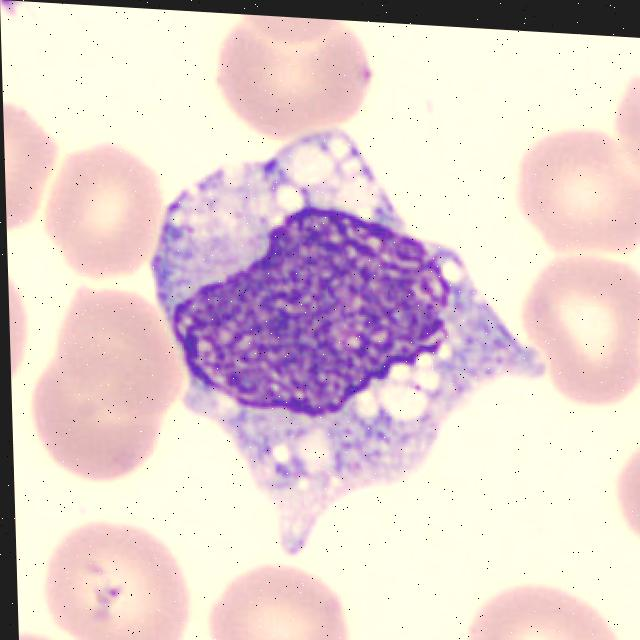monocyte: (151, 136, 552, 571)
platelets: (0, 0, 44, 42)
rbc: (212, 24, 360, 146), (523, 260, 640, 413), (36, 344, 153, 485), (43, 527, 187, 640), (64, 292, 184, 423), (517, 130, 640, 255), (49, 148, 164, 271), (211, 570, 342, 640), (460, 589, 616, 640), (3, 109, 61, 234), (225, 14, 351, 51), (620, 438, 640, 552), (619, 89, 640, 186), (8, 283, 24, 384), (638, 302, 640, 388)
